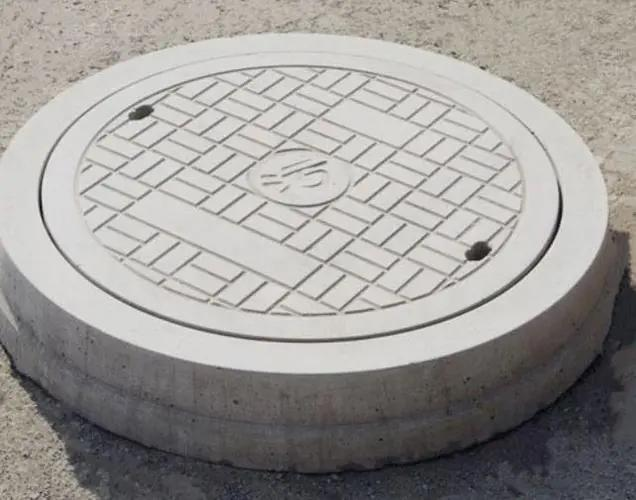wellcover: (46, 46, 585, 391)
